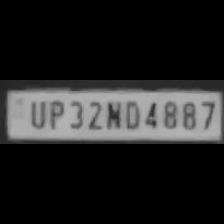2: (84, 98, 102, 130)
3: (64, 98, 84, 130)
4: (141, 97, 159, 128)
7: (198, 98, 218, 130)
8: (178, 98, 198, 130), (160, 98, 178, 130)
D: (122, 96, 140, 130)
N: (102, 98, 120, 130)
P: (45, 97, 65, 128)
U: (26, 97, 46, 128)
